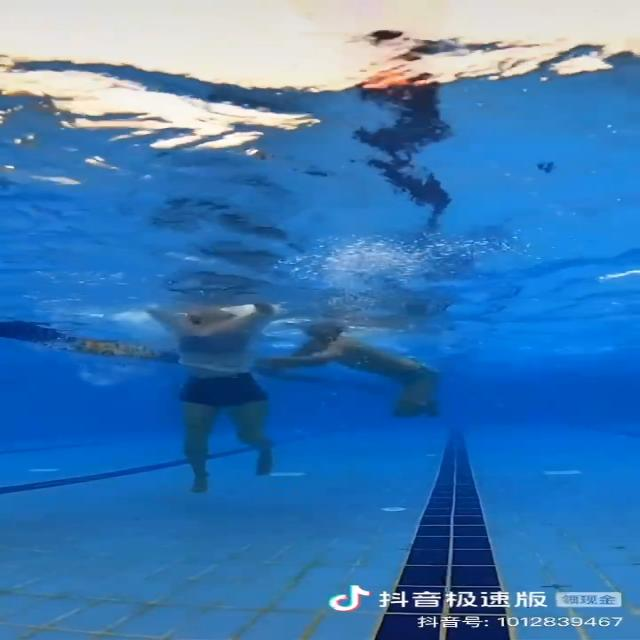Drowning: (173, 301, 274, 494)
Swimming: (264, 318, 453, 419)
